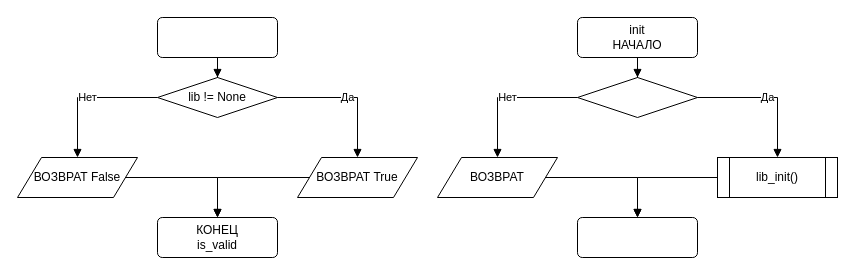
Some shapes in this 855 by 275 pixel diagram are drawn without their labels. The shapes that lost their labels are listed below. From the top down, each one's box as (x1, y1, x2, y2) in pixels, then its label:
(156, 16, 278, 58): is_valid НАЧАЛО
(576, 76, 698, 118): lib существует
(576, 216, 698, 258): КОНЕЦ init
